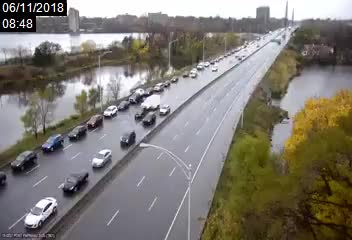personal_car: (24, 197, 58, 230), (62, 171, 91, 192), (10, 151, 39, 172), (41, 134, 63, 153), (93, 149, 112, 170), (143, 94, 160, 111), (68, 126, 87, 141), (128, 89, 145, 104), (119, 130, 136, 145), (141, 112, 156, 125), (88, 115, 103, 128), (158, 103, 172, 116), (104, 105, 118, 118), (134, 107, 146, 118), (117, 100, 129, 111), (153, 82, 164, 93), (143, 87, 153, 96), (190, 68, 198, 77), (170, 76, 180, 82), (196, 62, 204, 69), (181, 70, 188, 78), (163, 80, 170, 87), (212, 65, 217, 73)
